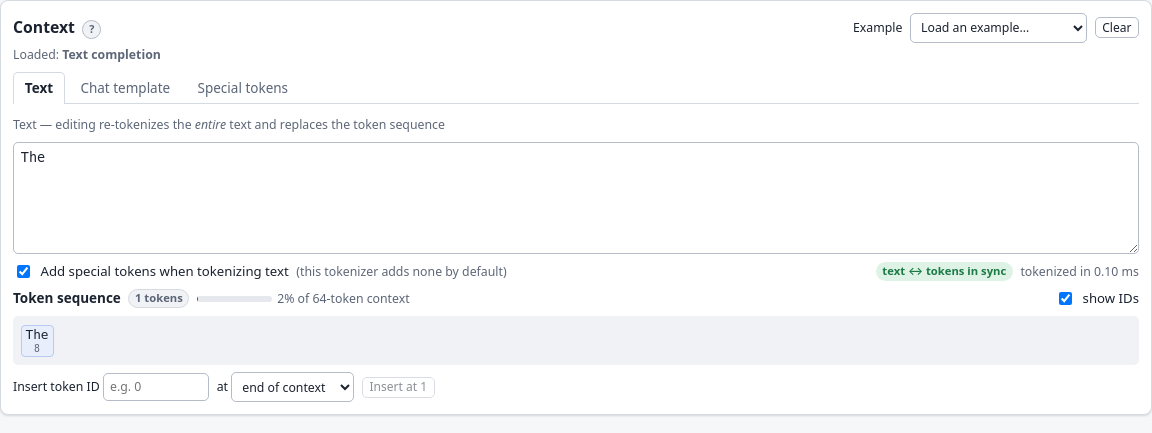
Scenario: ContextWorkspace › rejects out-of-range token IDs
This screenshot has width=1152, height=433.
Step 1. Type "9999" into the field with test id "insert-id" → (156, 387), box [103, 373, 209, 401]
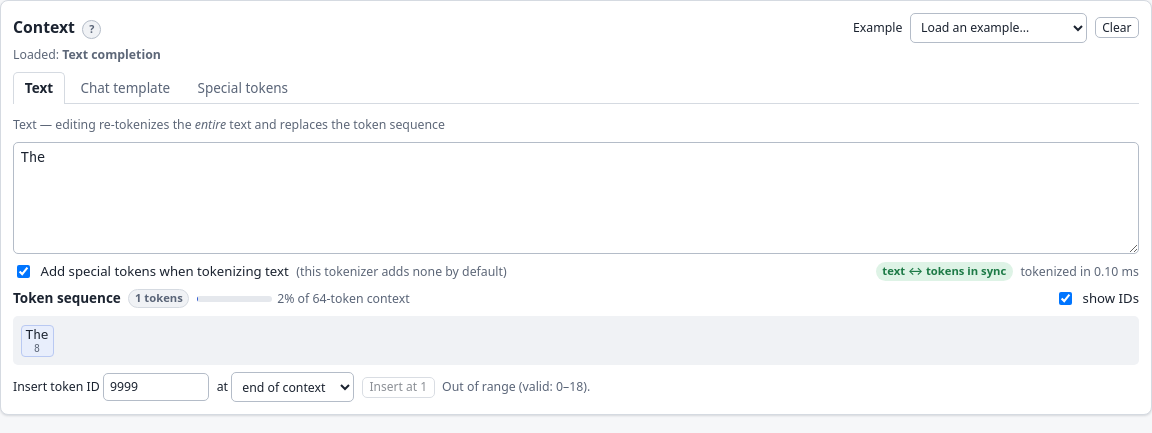
Expected: the button with test id "insert-submit" is disabled, [362, 377, 435, 398]
Expected: the text with test id "insert-preview" shows "Out of range", [442, 378, 590, 395]
